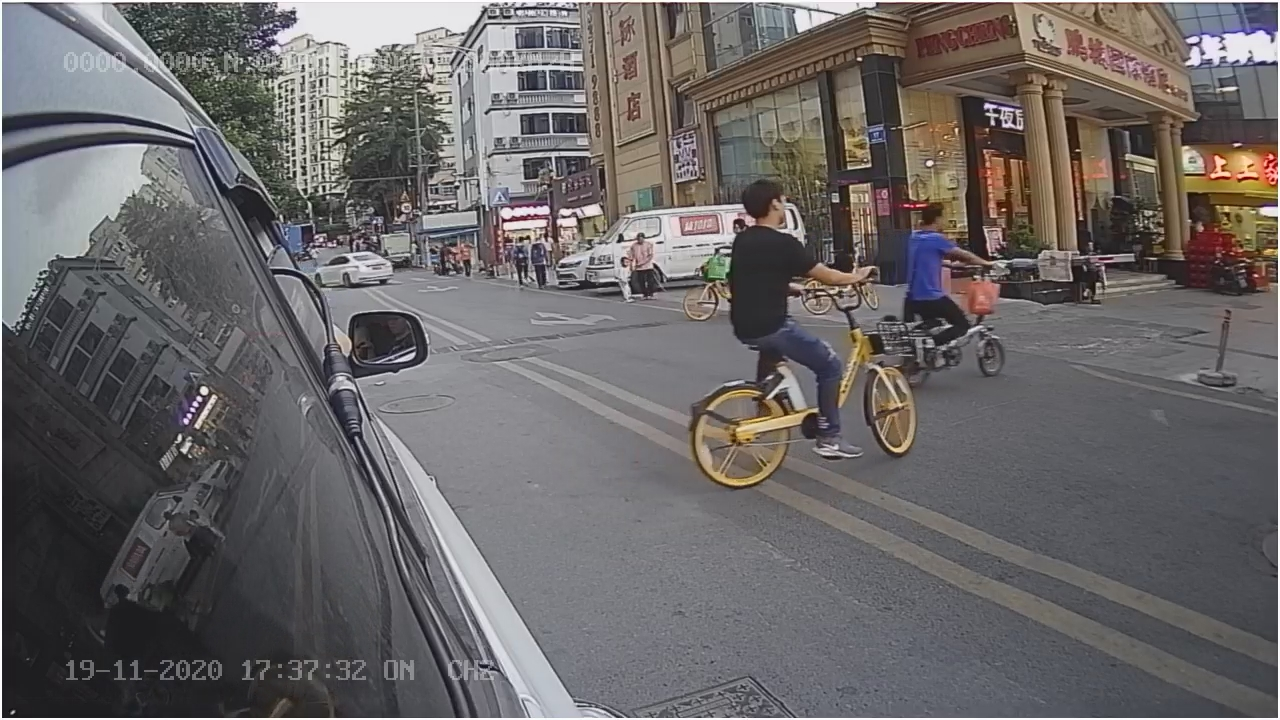person: (727, 176, 851, 356)
